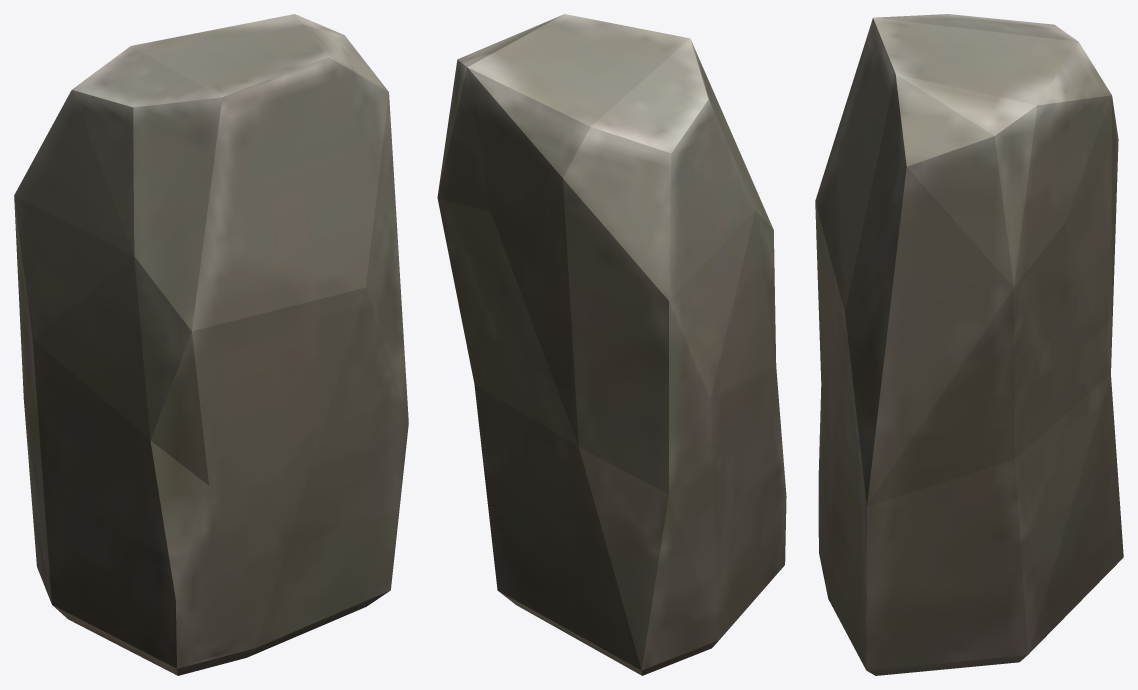
File: rock_09.glb
3 renders of one model, left to right at view 1: azimuth 30°, elevation 25°; view 2: azimuth 150°, elevation 25°; view 3: azimuth 270°, elevation 25°, orthographic. The views are drawn at different scales.
Parts seen in each view (by area): view 1: SM_Rocks_09_RocksStylized_M_0; view 2: SM_Rocks_09_RocksStylized_M_0; view 3: SM_Rocks_09_RocksStylized_M_0.
Part boxes in pixels (<box>): SM_Rocks_09_RocksStylized_M_0: <box>14,14,408,675</box>; SM_Rocks_09_RocksStylized_M_0: <box>437,14,786,675</box>; SM_Rocks_09_RocksStylized_M_0: <box>815,14,1123,675</box>.
Size of the model in its own units: 2.29 by 4.15 by 1.93.
1 material, 1 textured.
